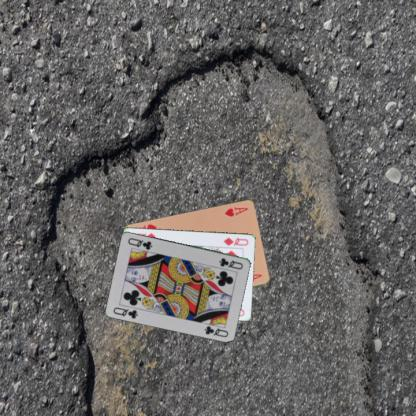Ah: (222, 204, 249, 218)
Qc: (111, 304, 139, 320), (217, 256, 244, 270)
Qd: (221, 235, 250, 246)
